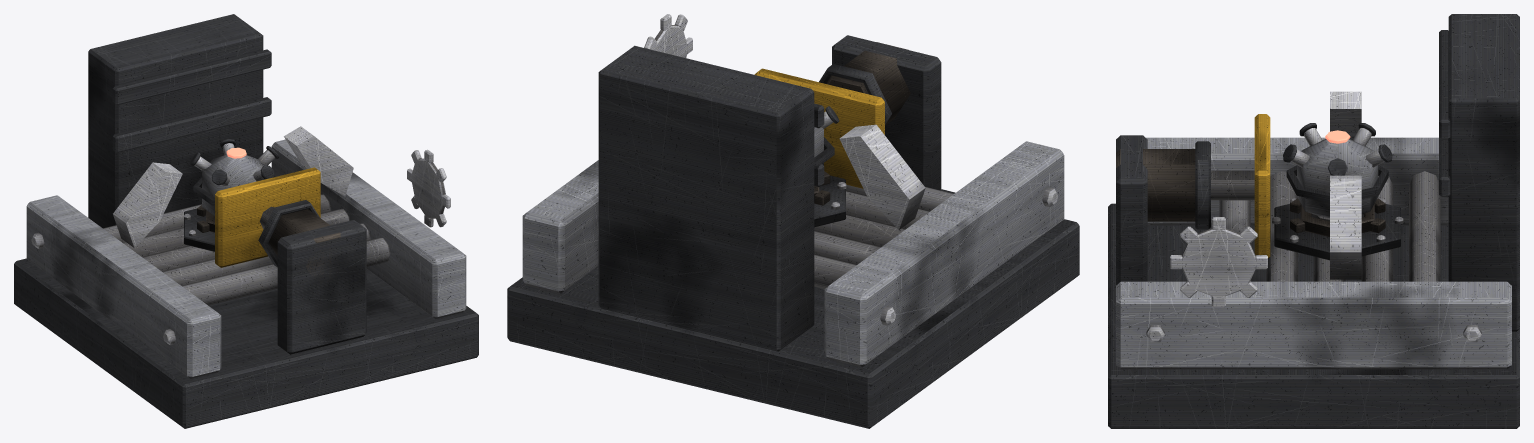
File: R4X_ExplosiveTrapDeployer_LOD1.glb
The picture shows the model from 3 angles, left to right: view 1: azimuth 30°, elevation 25°; view 2: azimuth 150°, elevation 25°; view 3: azimuth 270°, elevation 25°; orthographic projection. The views are drawn at different scales.
Parts seen in each view (by area): view 1: R4X_ExplosiveTrapDeployer_LOD1; view 2: R4X_ExplosiveTrapDeployer_LOD1; view 3: R4X_ExplosiveTrapDeployer_LOD1.
Part boxes in pixels (x1=…): R4X_ExplosiveTrapDeployer_LOD1: x1=14, y1=14, x2=478, y2=428; R4X_ExplosiveTrapDeployer_LOD1: x1=507, y1=14, x2=1079, y2=428; R4X_ExplosiveTrapDeployer_LOD1: x1=1108, y1=14, x2=1519, y2=428.
Bounding box in the file's own units: 0.52 × 0.4 × 0.52.
Materials: 6 (5 with a texture image).
